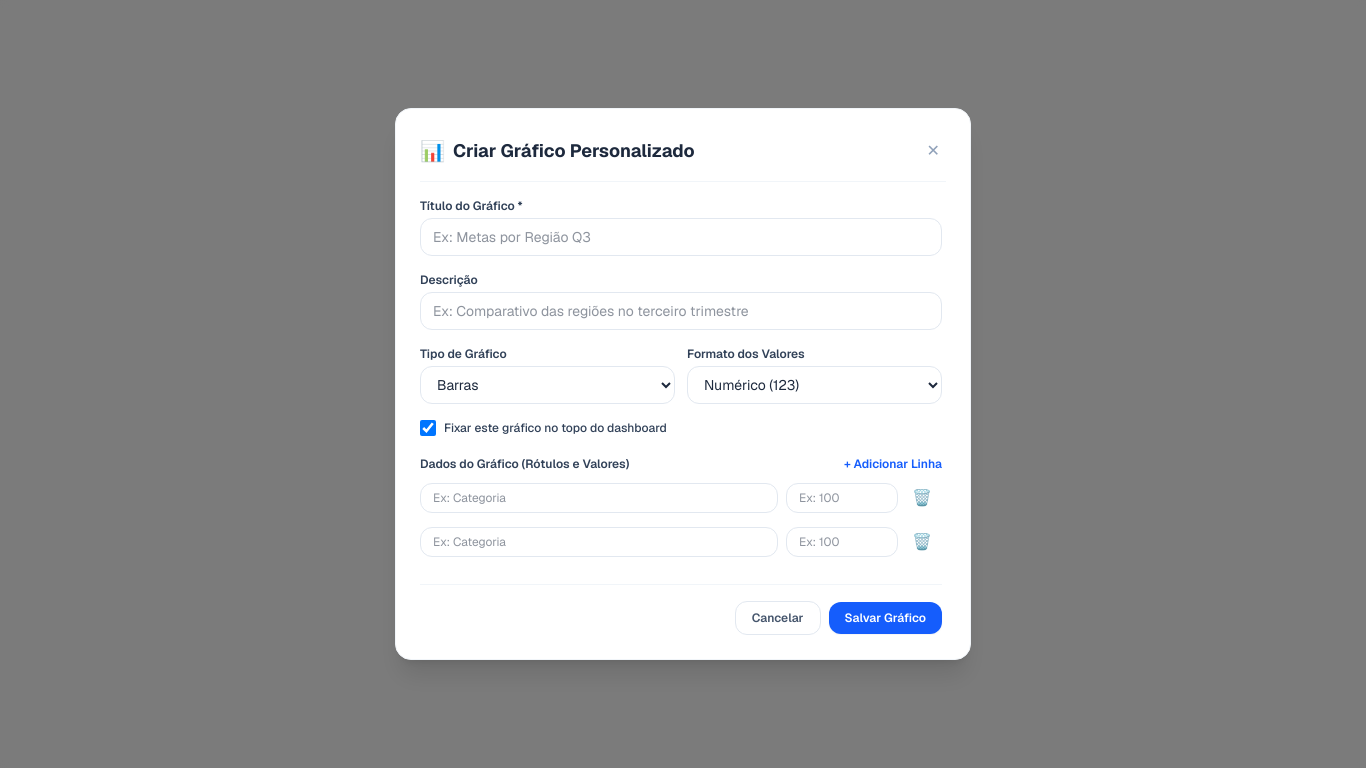
Test case: CreateChartModal › exibe mensagem de erro se a criação falhar
Type "Gráfico Teste" into the field labelled "Título do Gráfico *" at (681, 237), box x1=420 y1=218 x2=942 y2=256
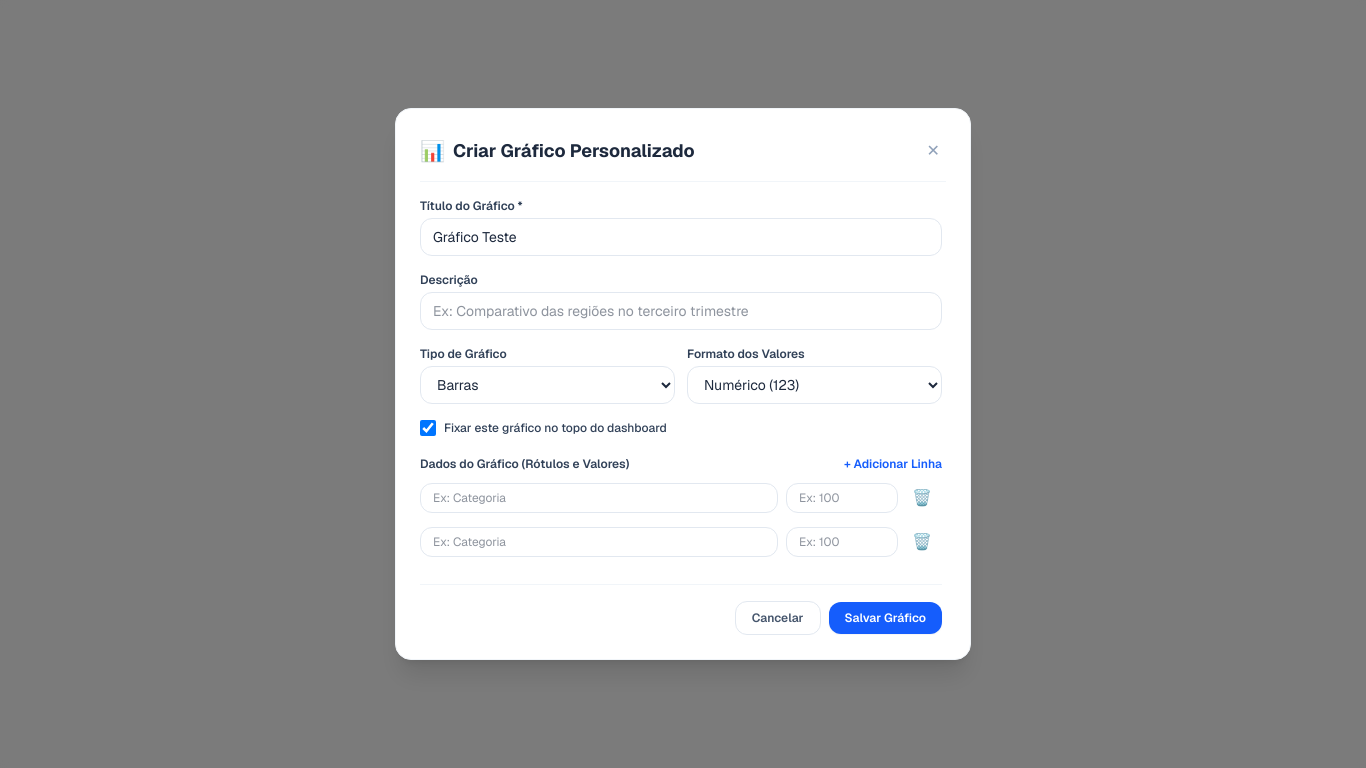
Type "Item 1" into the 1st field with placeholder "Ex: Categoria" at (599, 498), box x1=420 y1=483 x2=778 y2=513
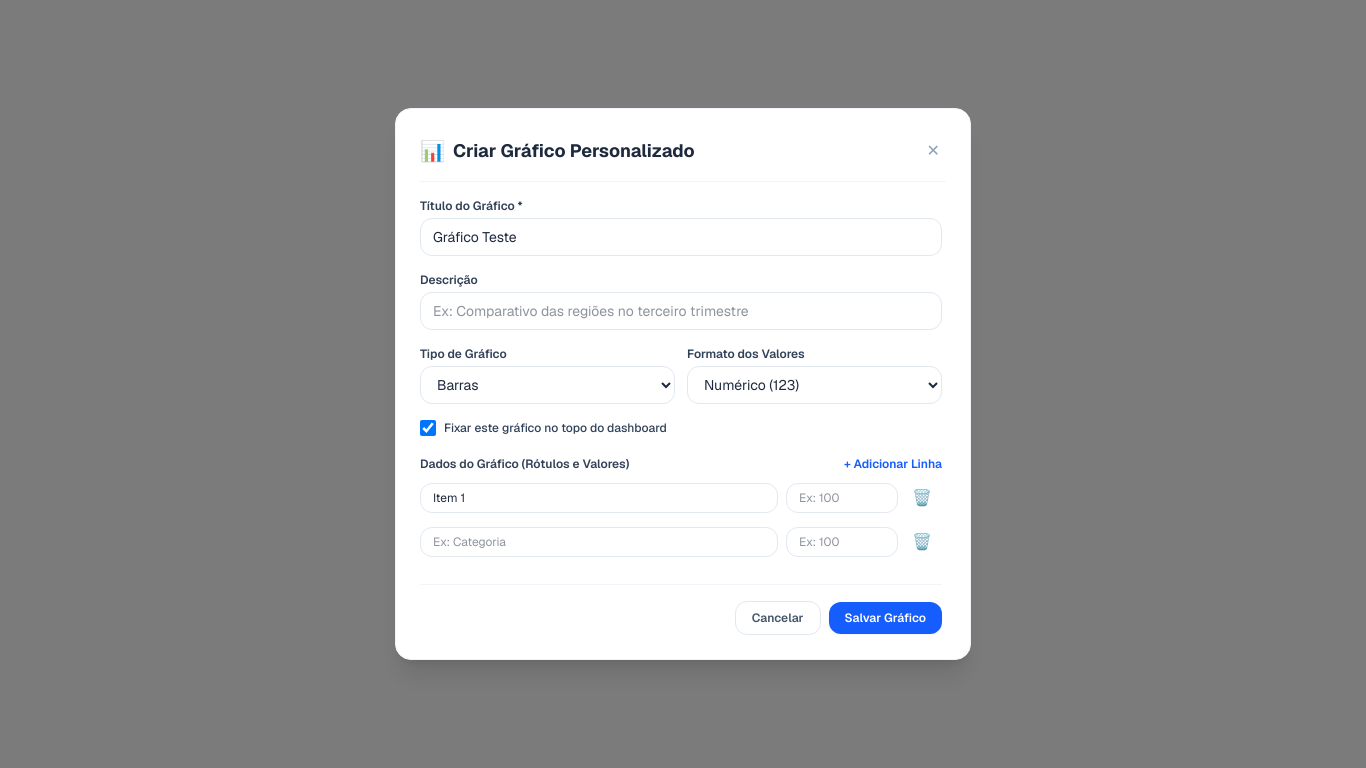
Type "10" into the 1st field with placeholder "Ex: 100" at (842, 498), box x1=786 y1=483 x2=898 y2=513
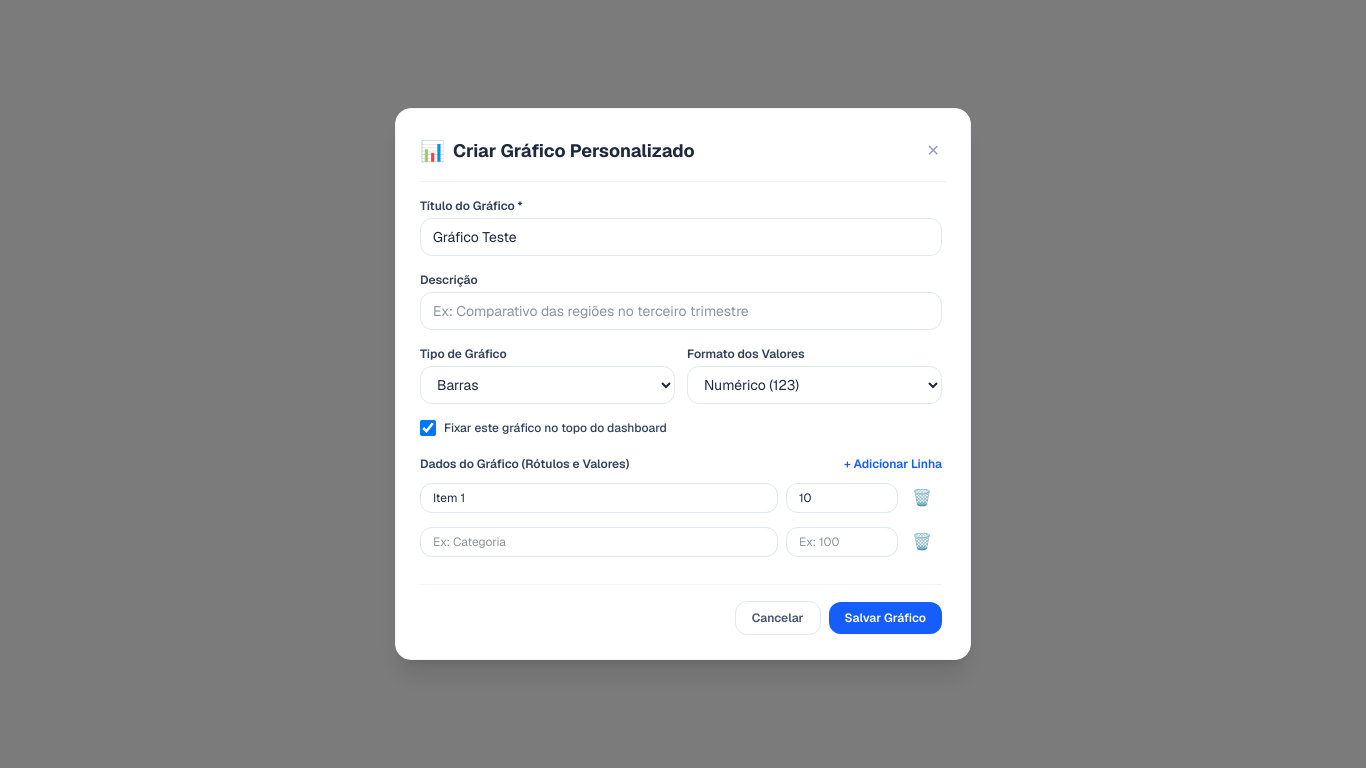
Click the button "Salvar Gráfico" at (885, 618), box x1=828 y1=602 x2=942 y2=634
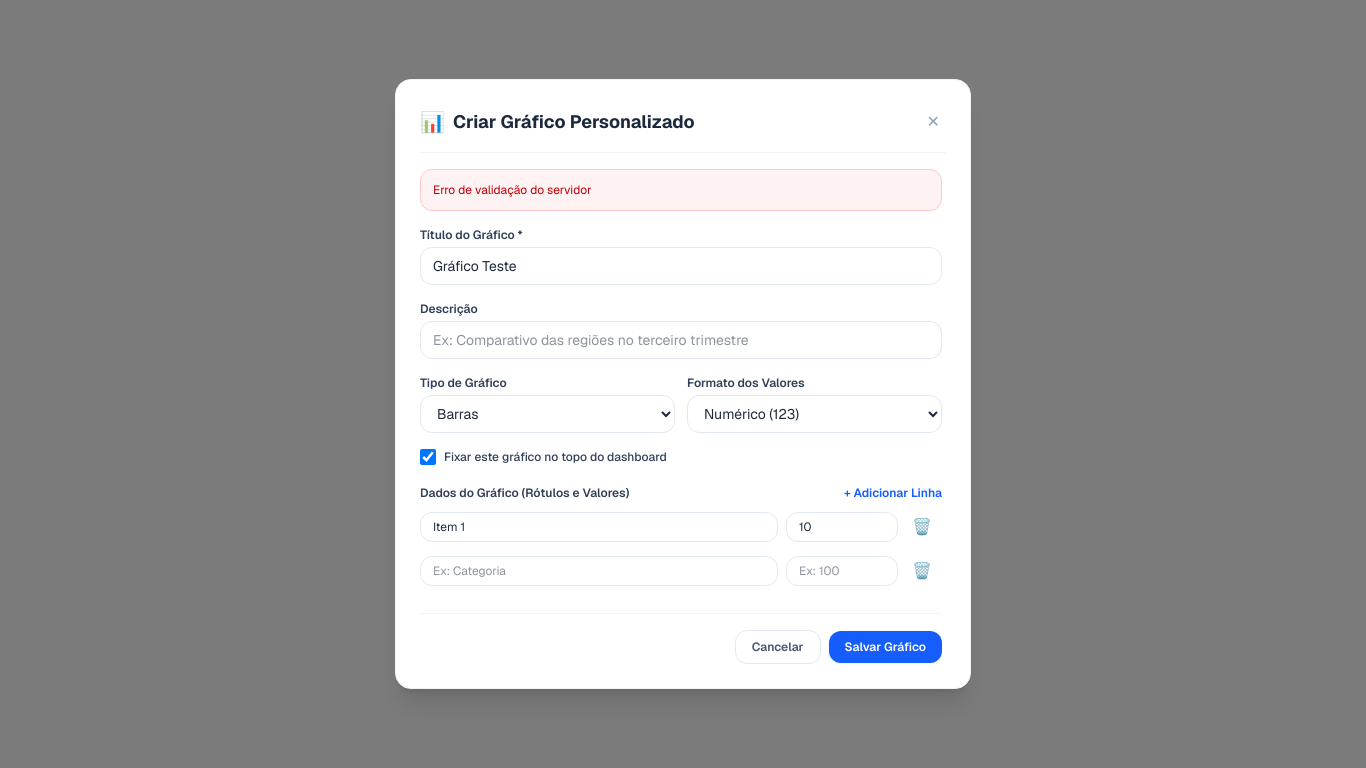
Check: the text "Erro de validação do servidor" is shown, box x1=420 y1=169 x2=942 y2=211
